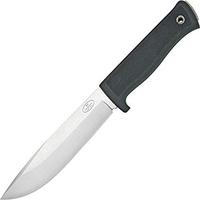knife: (1, 3, 194, 199)
